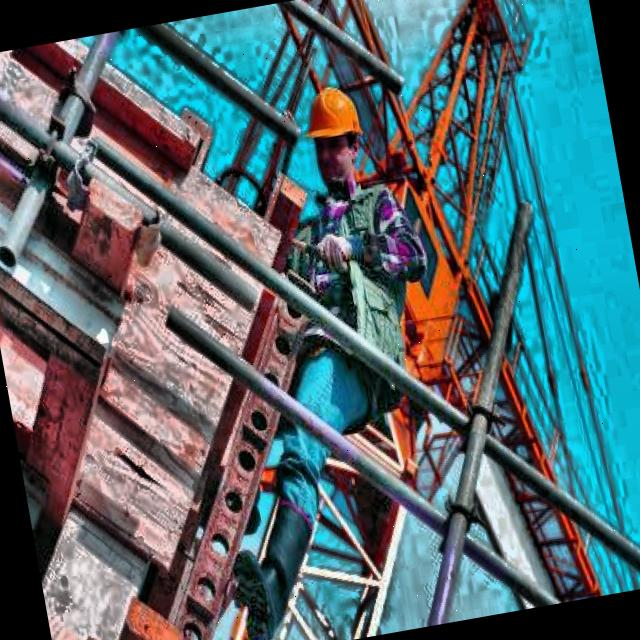helmet: (296, 71, 374, 189)
